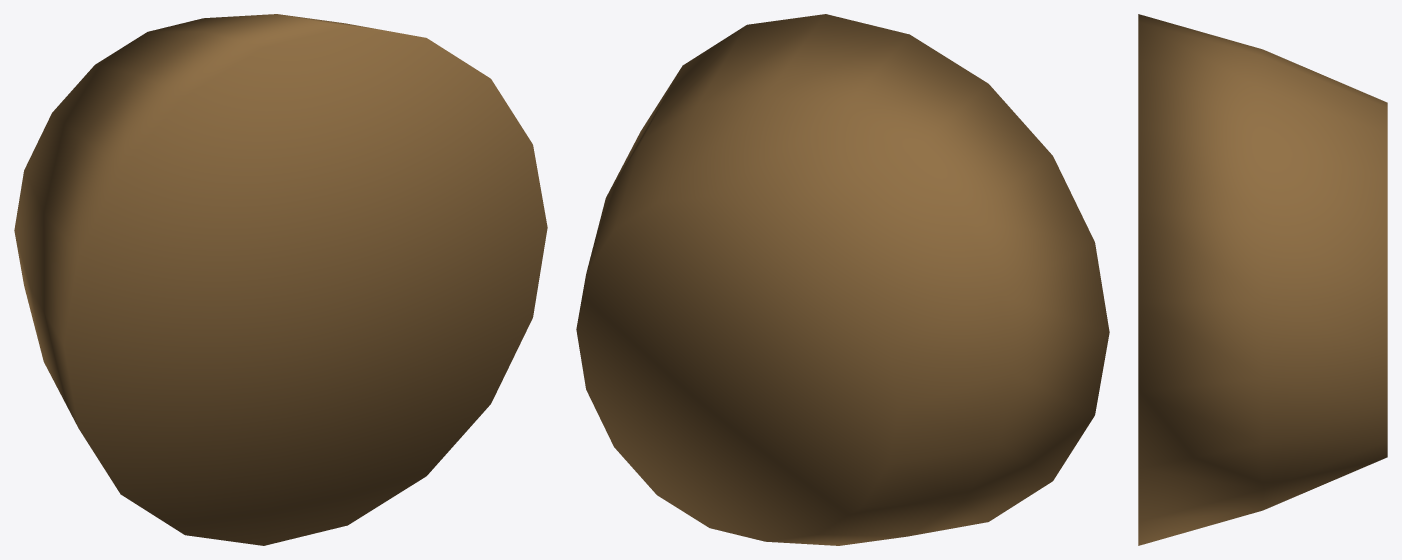
The model's file is PROP_BASKET_WOVEN.obj.
The picture shows the model from 3 angles, left to right: view 1: azimuth 30°, elevation 25°; view 2: azimuth 150°, elevation 25°; view 3: azimuth 270°, elevation 25°; orthographic projection. The views are drawn at different scales.
Visible parts, largest first — view 1: PROP_BASKET_WOVEN; view 2: PROP_BASKET_WOVEN; view 3: PROP_BASKET_WOVEN.
Part boxes in pixels (x1,y1,x2,y2): PROP_BASKET_WOVEN: (14, 14, 547, 545); PROP_BASKET_WOVEN: (576, 14, 1109, 545); PROP_BASKET_WOVEN: (1138, 14, 1387, 545).
Bounding box in the file's own units: 0.6 × 0.5908 × 0.28.
